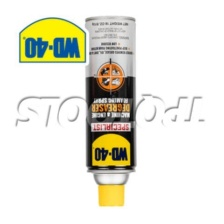cleaning_solution: (83, 13, 140, 211)
